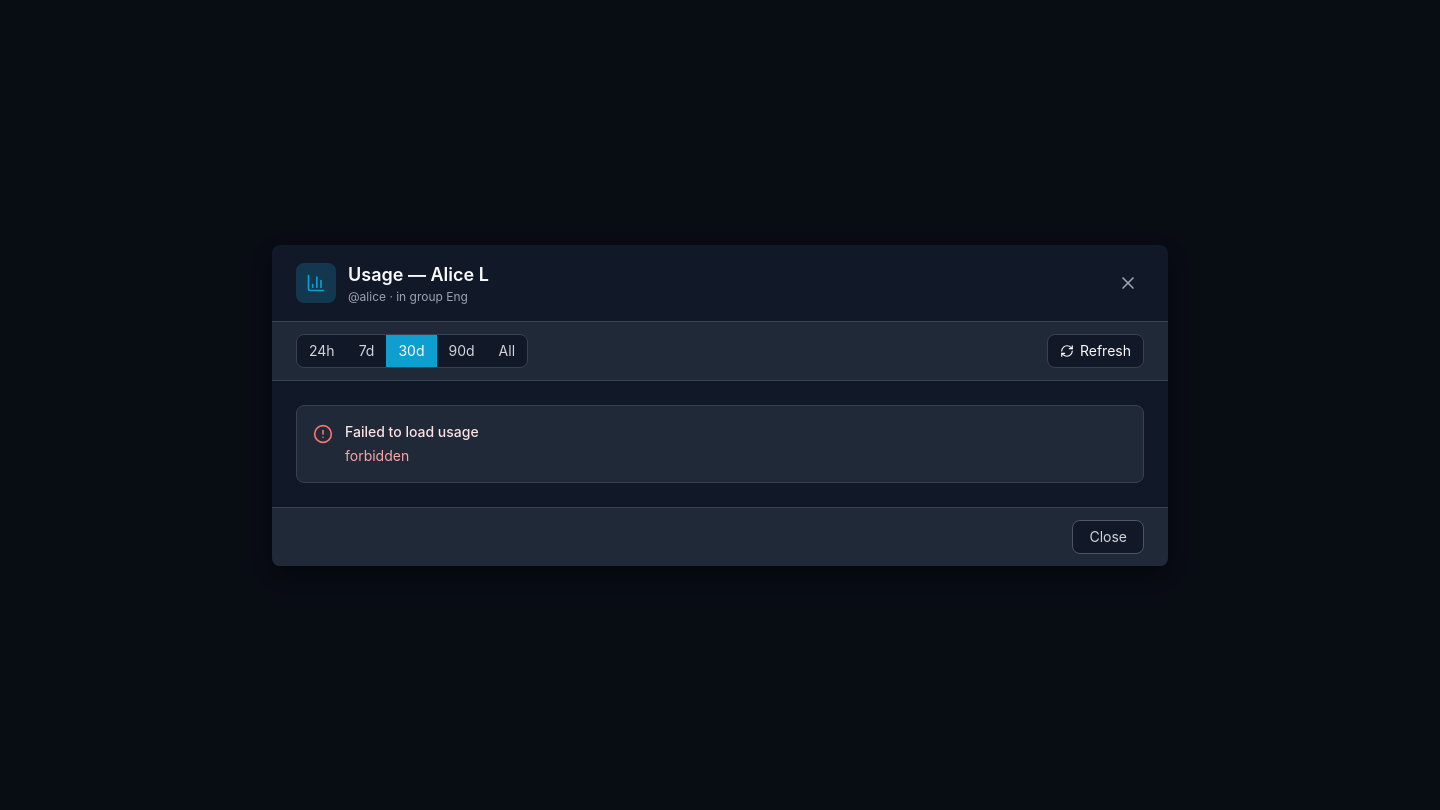
Test case: GroupMemberUsageModal › shows a failure message, including for a non-Error rejection, and Refresh retries
Expected: the text "forbidden" is shown, left=345, top=446, right=409, bottom=464
What coordinates should you click on to do the following:
click the button "Refresh"
I would click on:
 (1096, 350)
Its box is left=1047, top=334, right=1144, bottom=368.
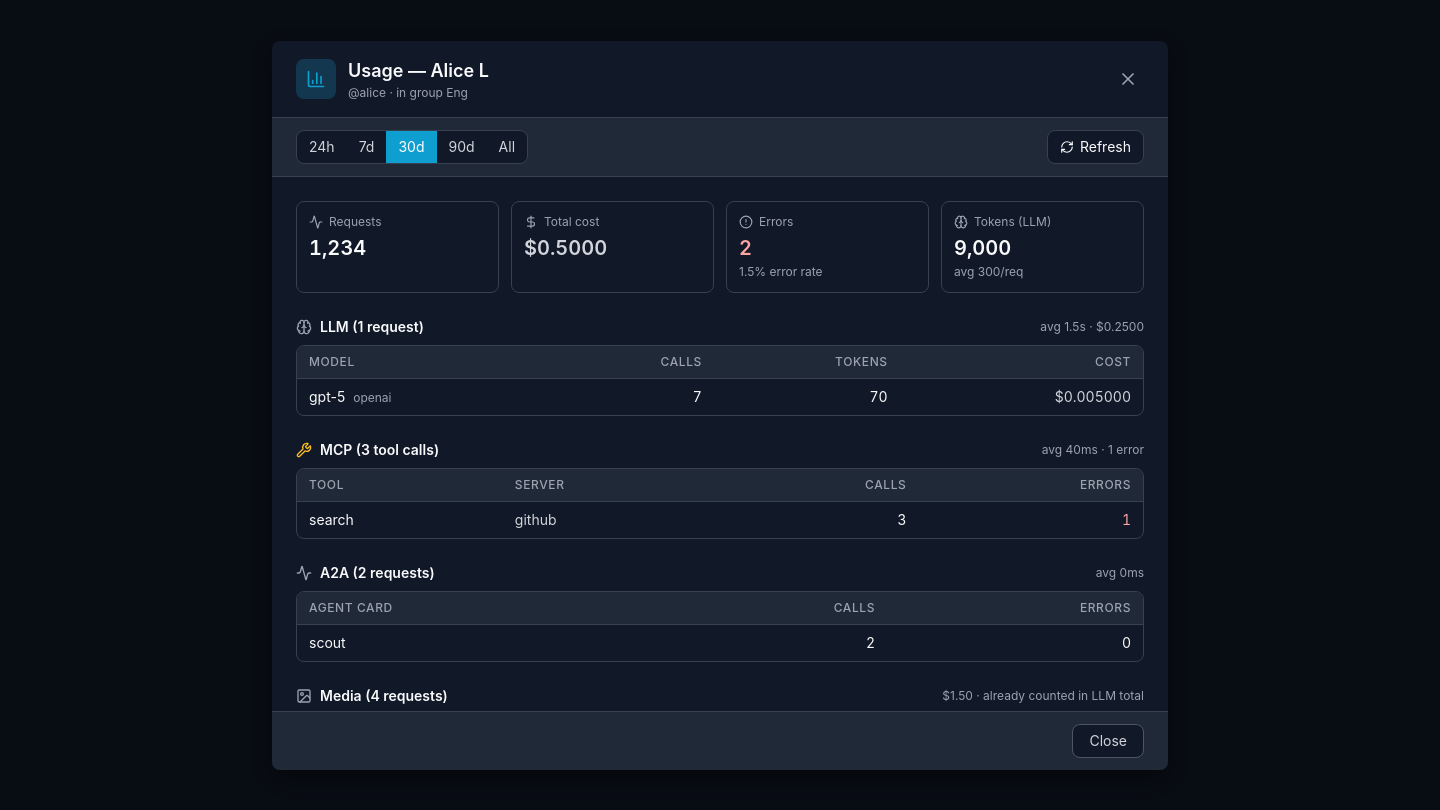
Expected: the text "Requests" is shown, left=329, top=214, right=382, bottom=230
Expected: the text "forbidden" is gone
